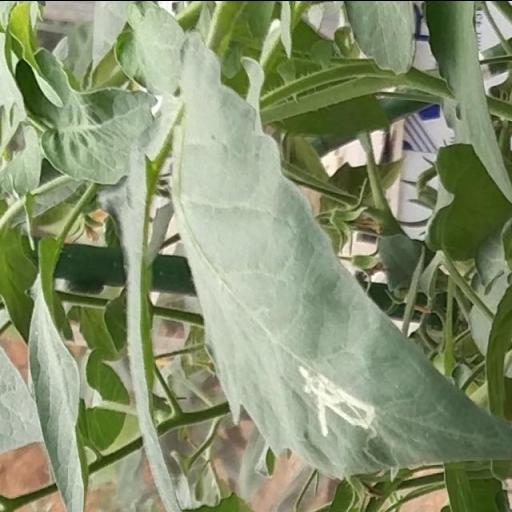disease_tomato: (164, 28, 512, 476)
